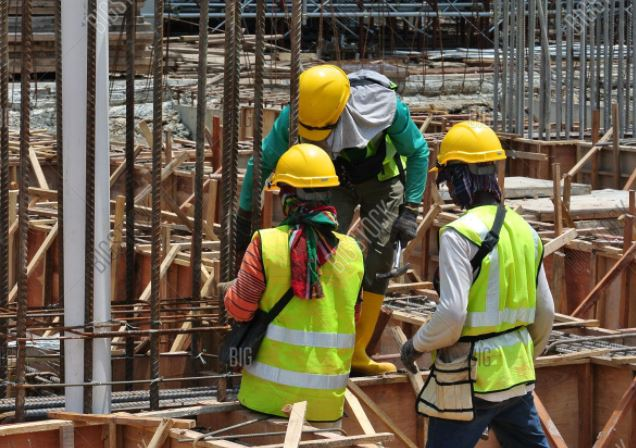Safety Helmet: (433, 114, 514, 223), (262, 136, 345, 238), (282, 52, 370, 146)
